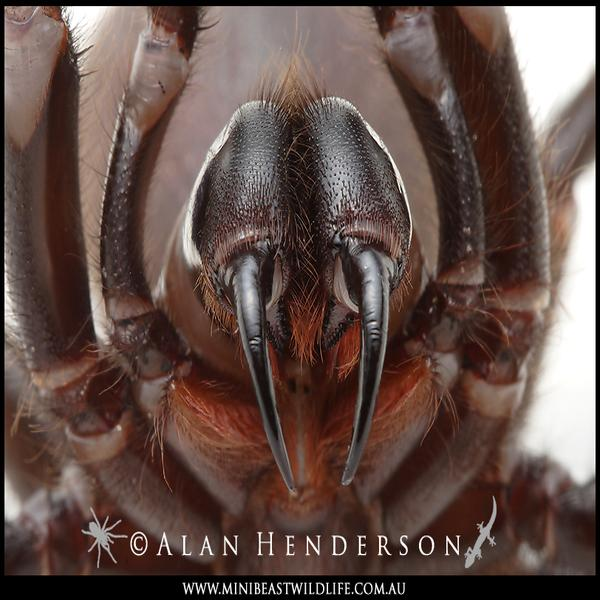Sydney_Funnel_Web_Spider: (6, 10, 597, 532)
